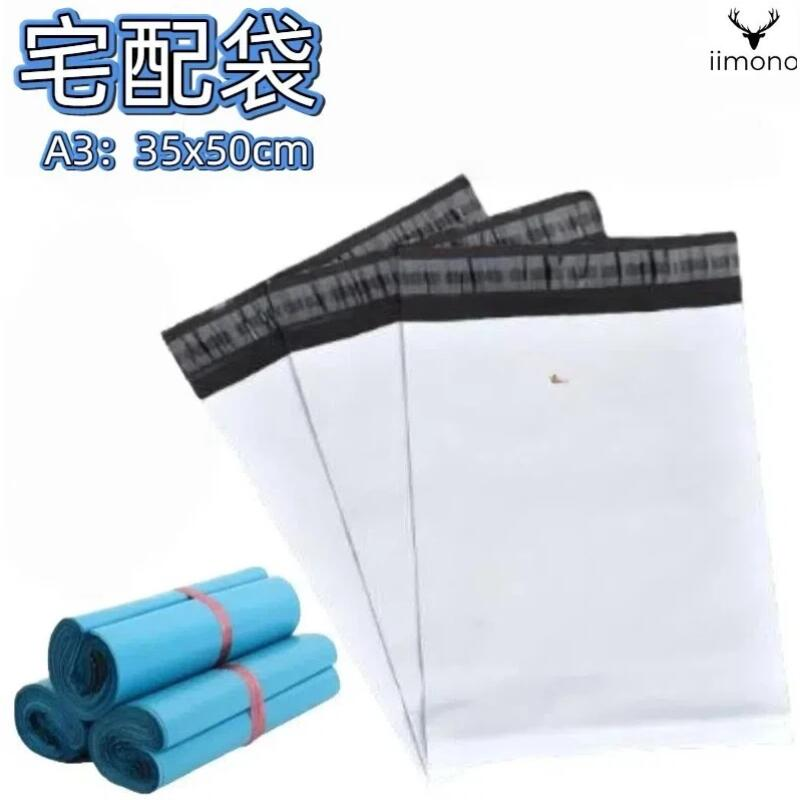Parcel: (152, 154, 796, 790)
